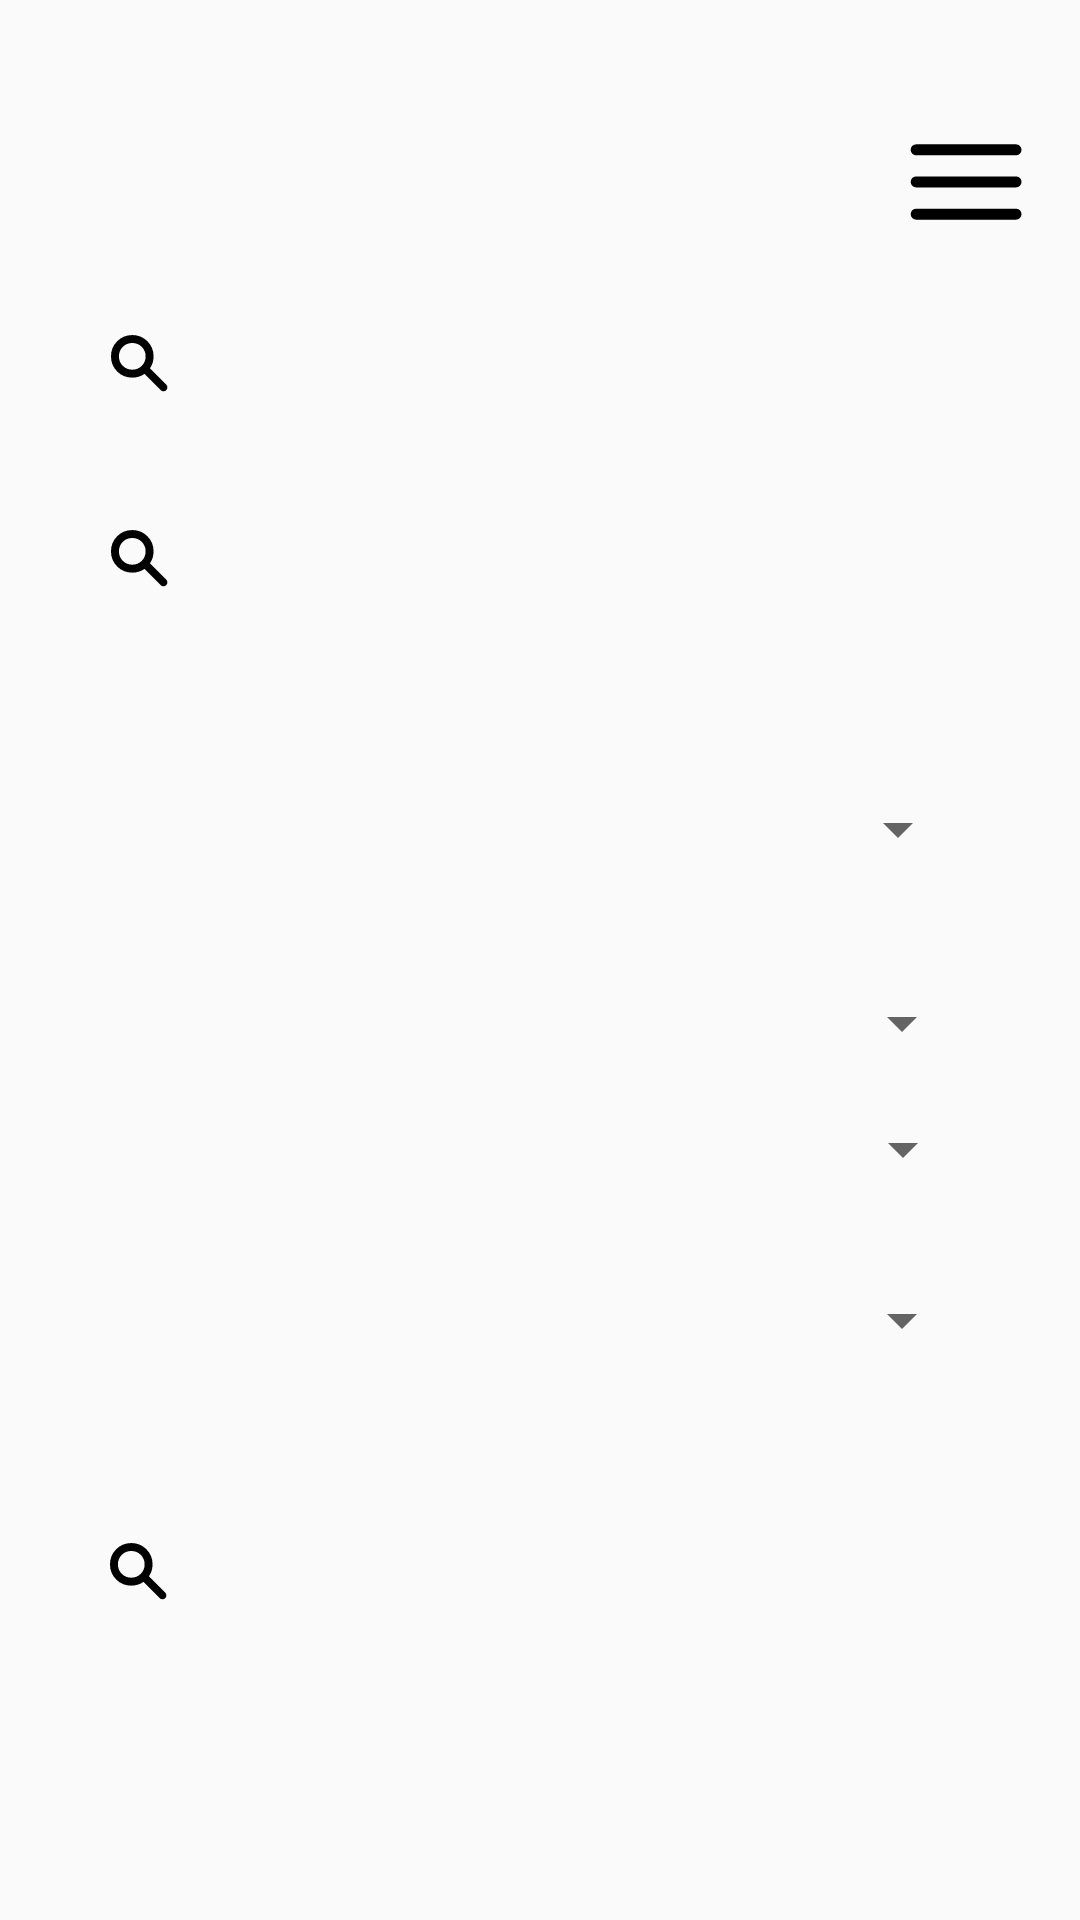

Named icons in this screenshot (1080w x 1920h) and their centers, (x=x, y=y):
menu: (x=966, y=182)
